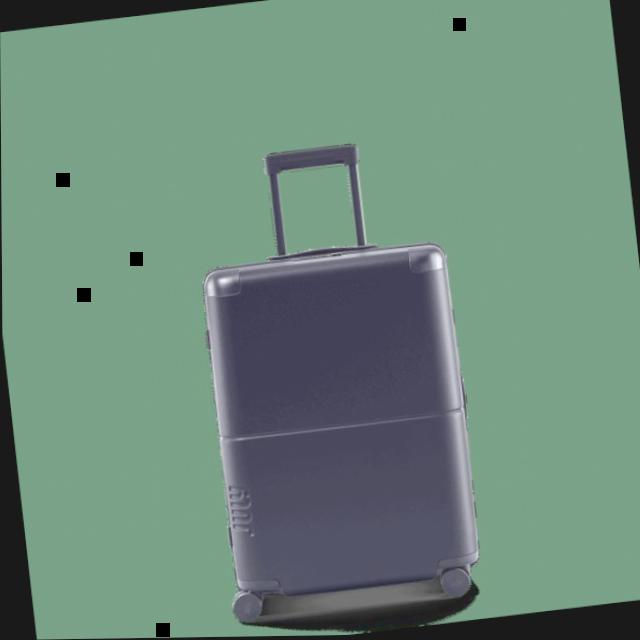luggage: (180, 227, 503, 616)
